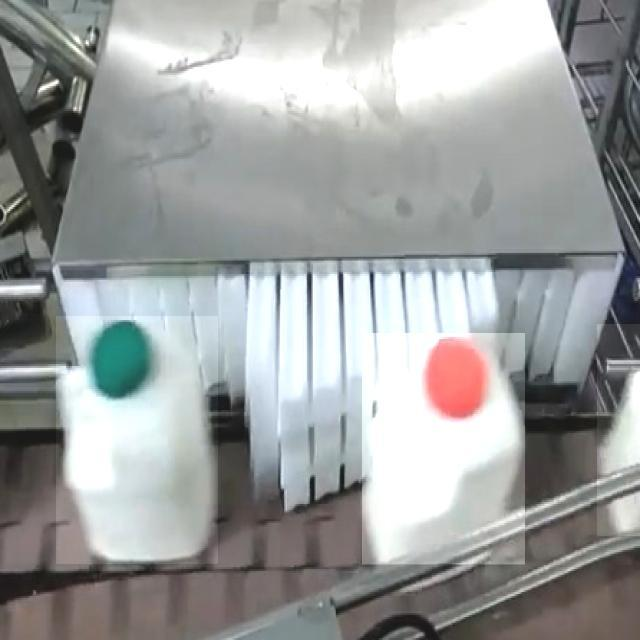green: (59, 311, 220, 558)
red: (361, 329, 531, 570)
